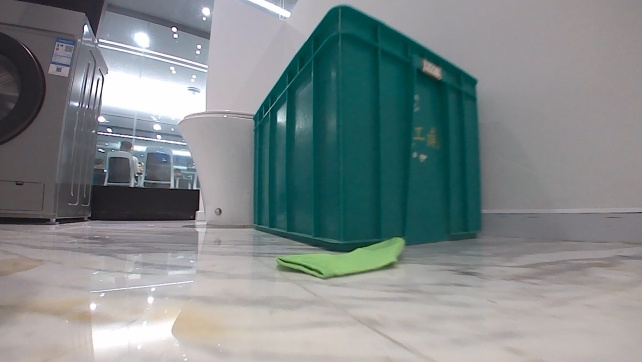socks: (272, 235, 405, 279)
toilet: (175, 108, 257, 228)
washing_machine: (0, 0, 109, 225)
